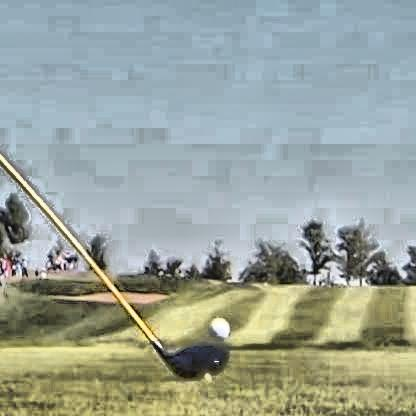golfball: (207, 315, 228, 337)
